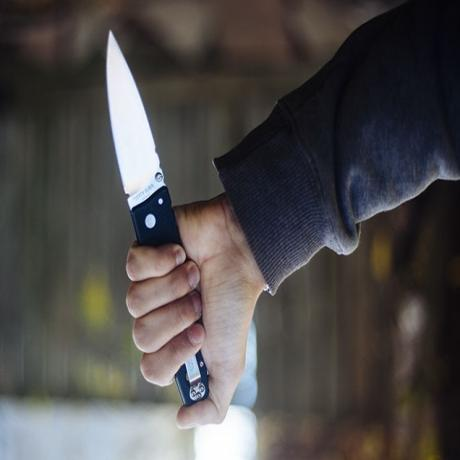1: (123, 0, 460, 429)
weapon: (106, 34, 171, 236)
